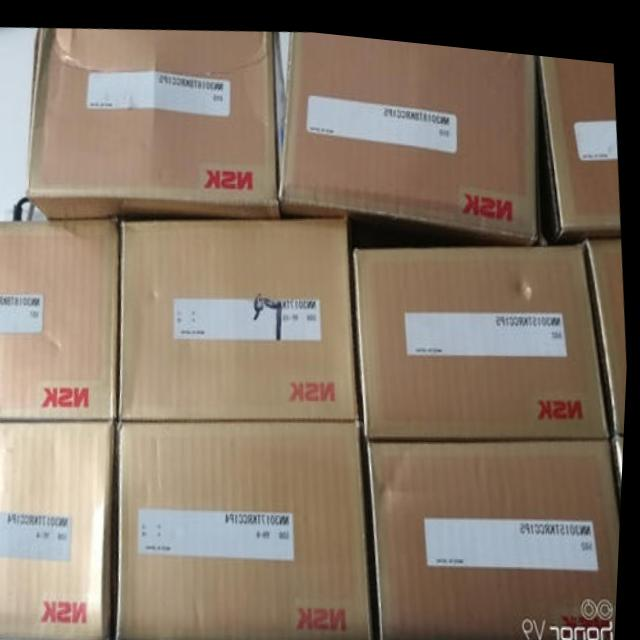box: (119, 413, 379, 640), (368, 424, 624, 640), (281, 25, 541, 233), (355, 232, 612, 429), (27, 25, 285, 218), (122, 210, 361, 417), (0, 418, 119, 639), (0, 220, 121, 417), (537, 44, 622, 224), (584, 224, 629, 422), (615, 421, 627, 489)
